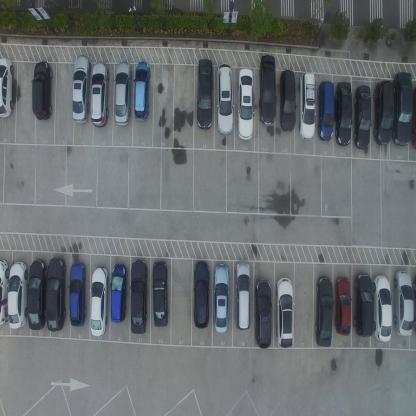car: (45, 257, 67, 332), (392, 70, 413, 147), (27, 257, 48, 330), (236, 67, 256, 141), (314, 275, 334, 348), (353, 271, 374, 338), (394, 268, 414, 338), (71, 54, 91, 124), (8, 260, 28, 329), (130, 257, 148, 333), (275, 277, 294, 349), (372, 274, 392, 342), (68, 261, 88, 328), (31, 59, 52, 122), (216, 63, 234, 136), (90, 265, 108, 337), (90, 60, 109, 128), (259, 53, 276, 127), (373, 80, 392, 146), (152, 258, 170, 327), (197, 58, 214, 130), (255, 277, 272, 349), (298, 70, 315, 141), (113, 60, 131, 127), (212, 263, 229, 333), (353, 84, 371, 150), (334, 80, 352, 146), (316, 80, 335, 142), (109, 263, 128, 324), (235, 259, 251, 331), (193, 259, 209, 329), (279, 68, 295, 134), (133, 59, 150, 121), (335, 277, 351, 337), (0, 56, 15, 120), (0, 256, 9, 326)
